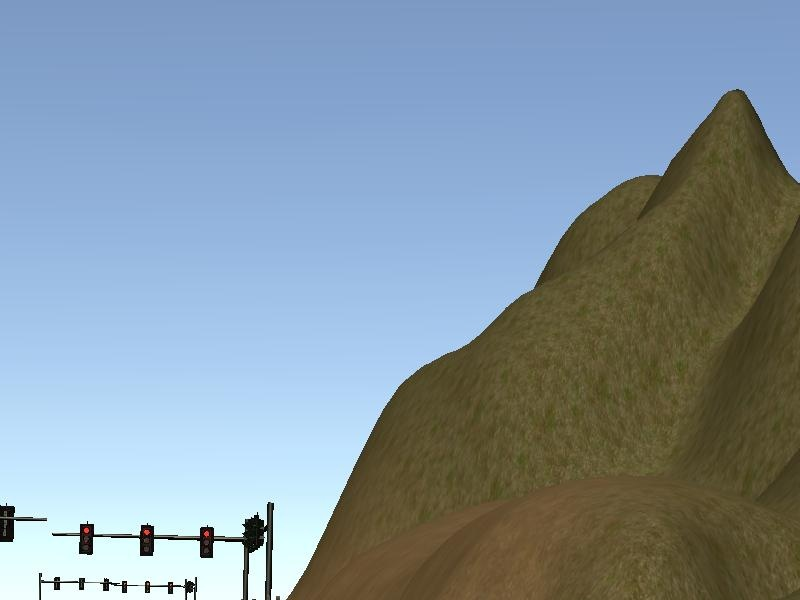red: (77, 523, 94, 557), (138, 524, 155, 558), (198, 526, 215, 560)
